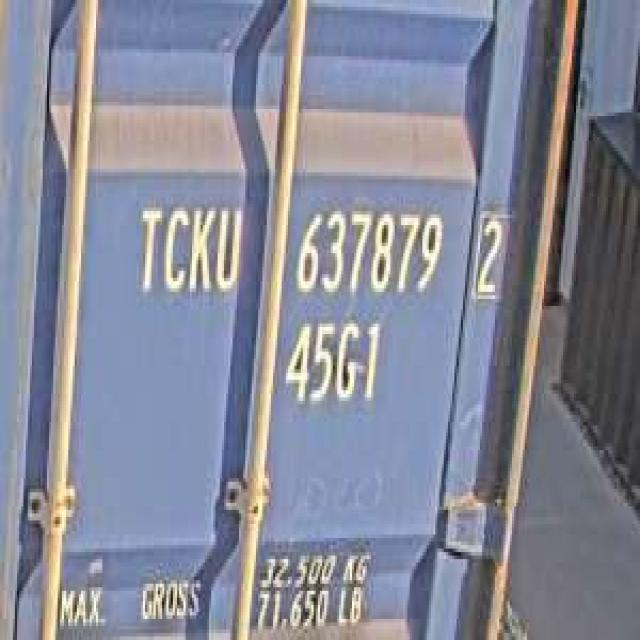dv: (469, 204, 510, 306)
owner: (130, 193, 241, 306)
serial: (288, 197, 446, 306)
size: (279, 309, 384, 415)
